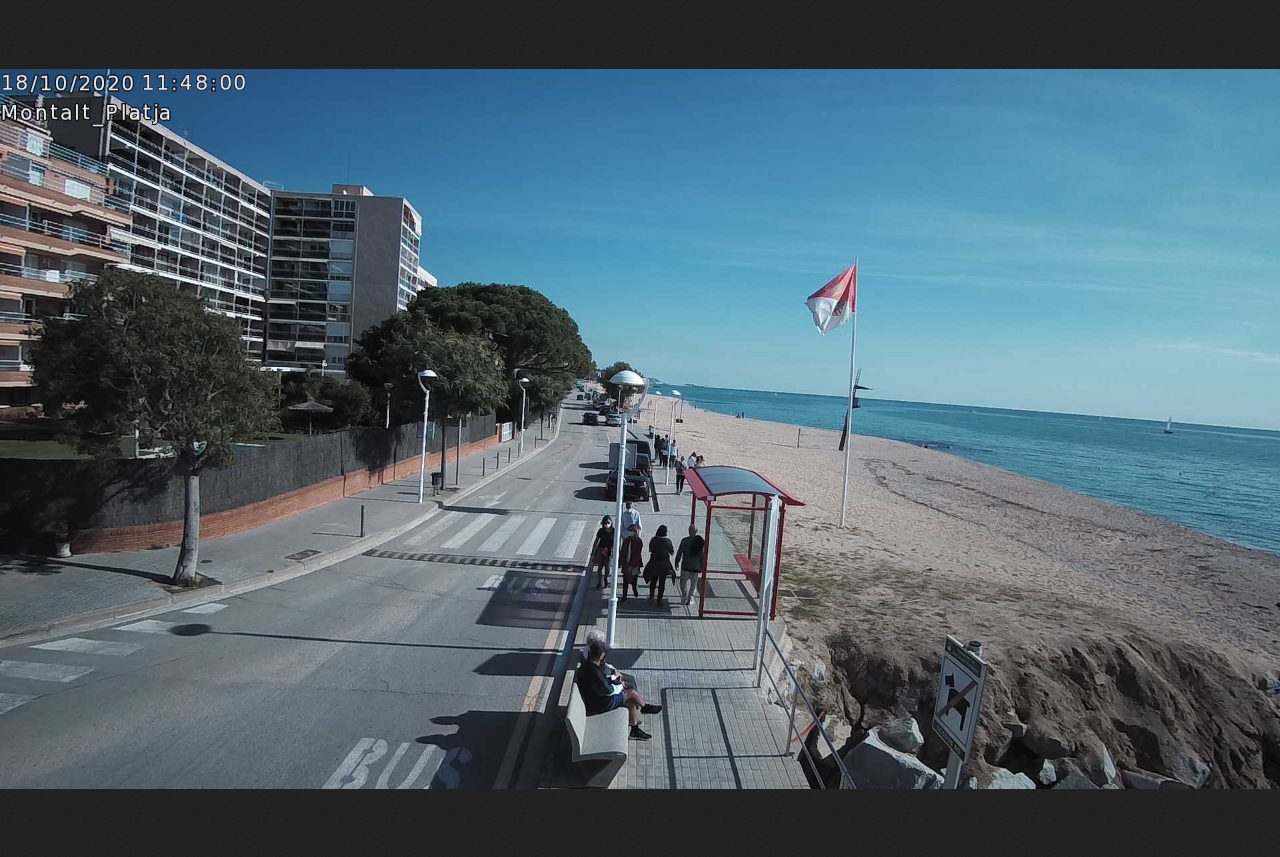maybe: (806, 264, 856, 339)
